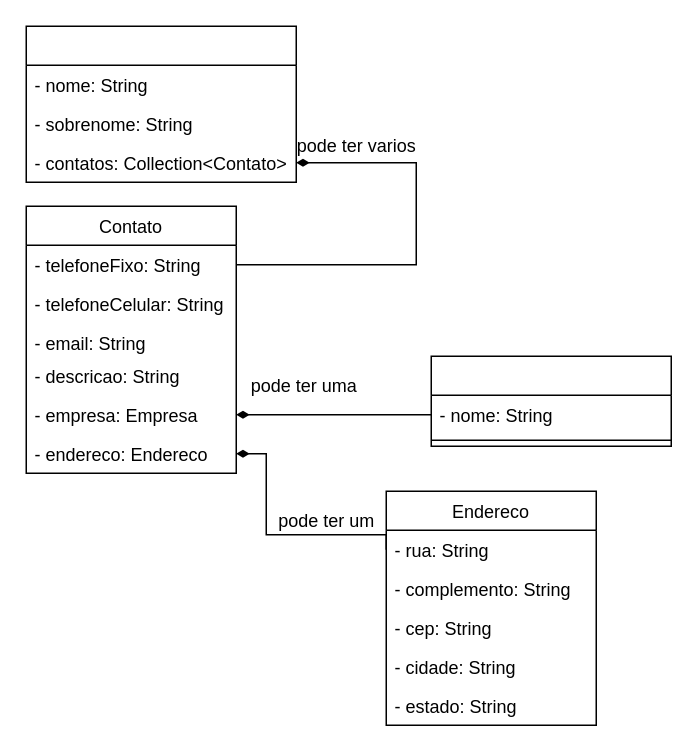
The diagram is 698 pixels wide and 756 high, and some of its shapes have lost their labels. The shapes that lost their labels are listed below. From the top down, each one's box as (x1, y1, x2, y2) in pixels, then its label:
(25, 25, 296, 182): Pessoa
(430, 355, 671, 446): Empresa
